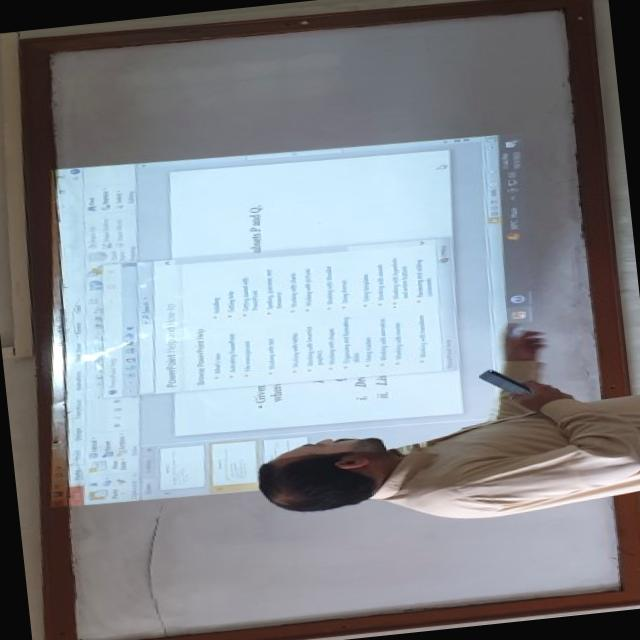Instructor: (246, 370, 640, 545)
Slide: (45, 128, 560, 507)
White-board: (36, 0, 640, 640)
